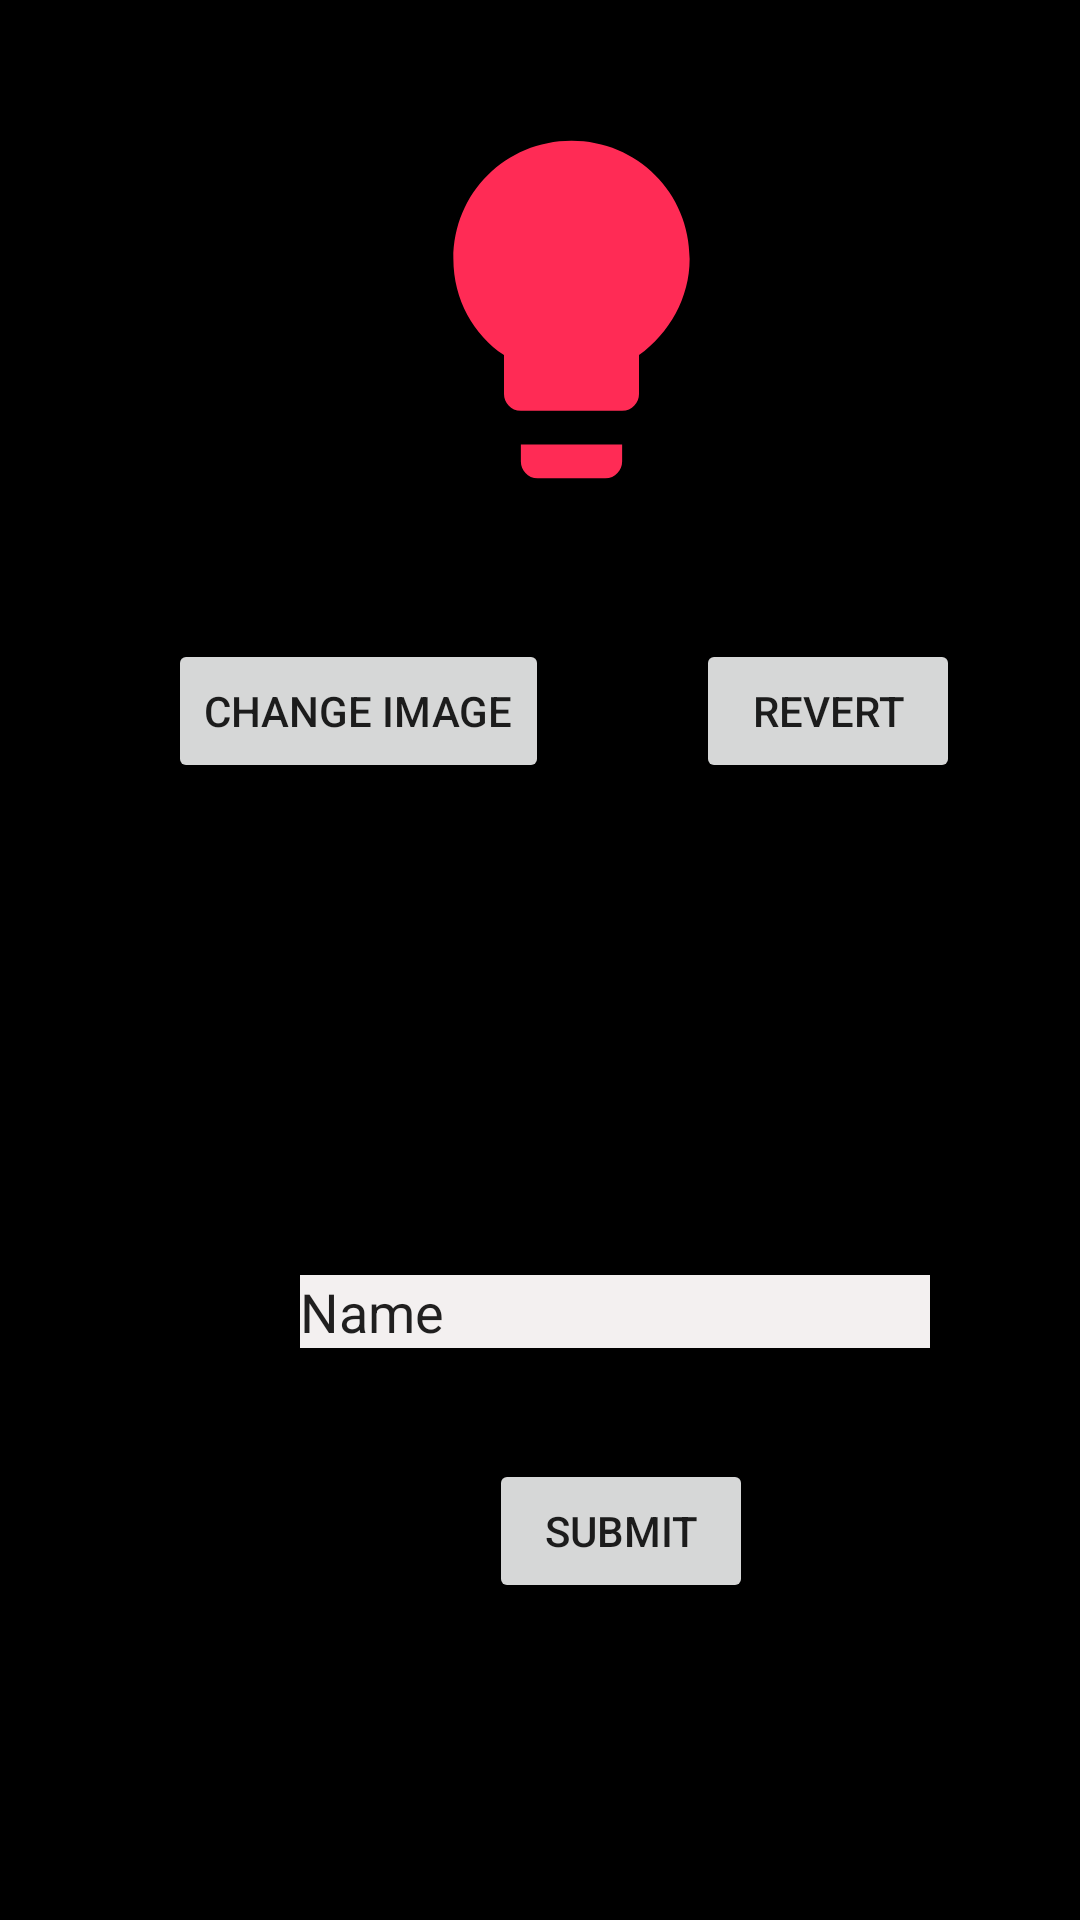

Screen size 1080 x 1920. Icon name, then its box in pixels as (x1=x1, y1=y1, x2=x2, y2=y2):
lightbulb: (x1=453, y1=140, x2=690, y2=479)
